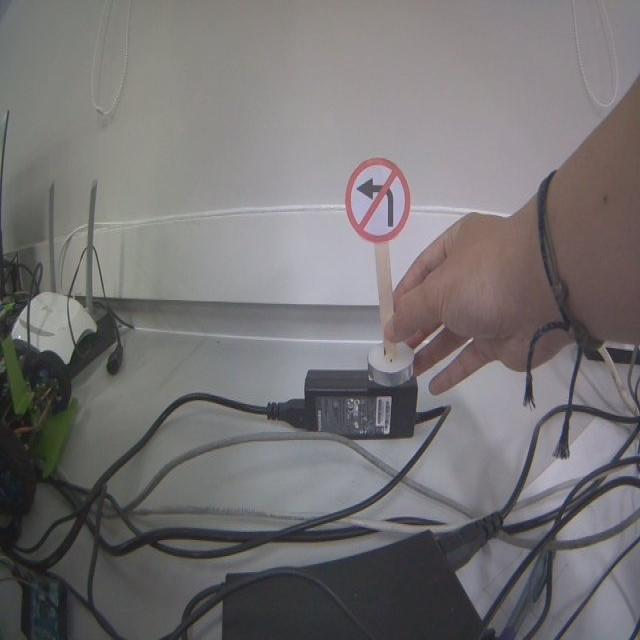Dilarang Belok Kiri: (345, 158, 411, 242)
